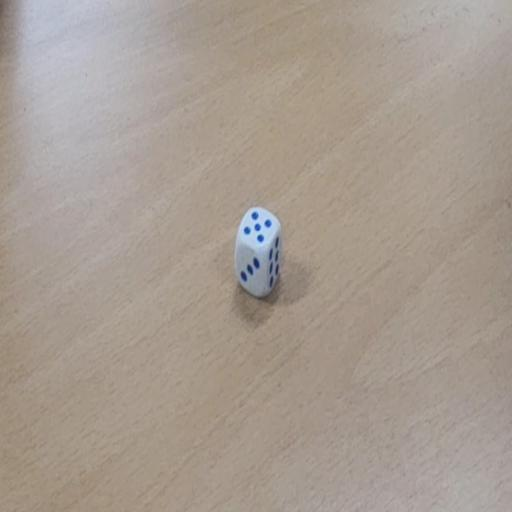dice_5: (234, 206, 283, 300)
